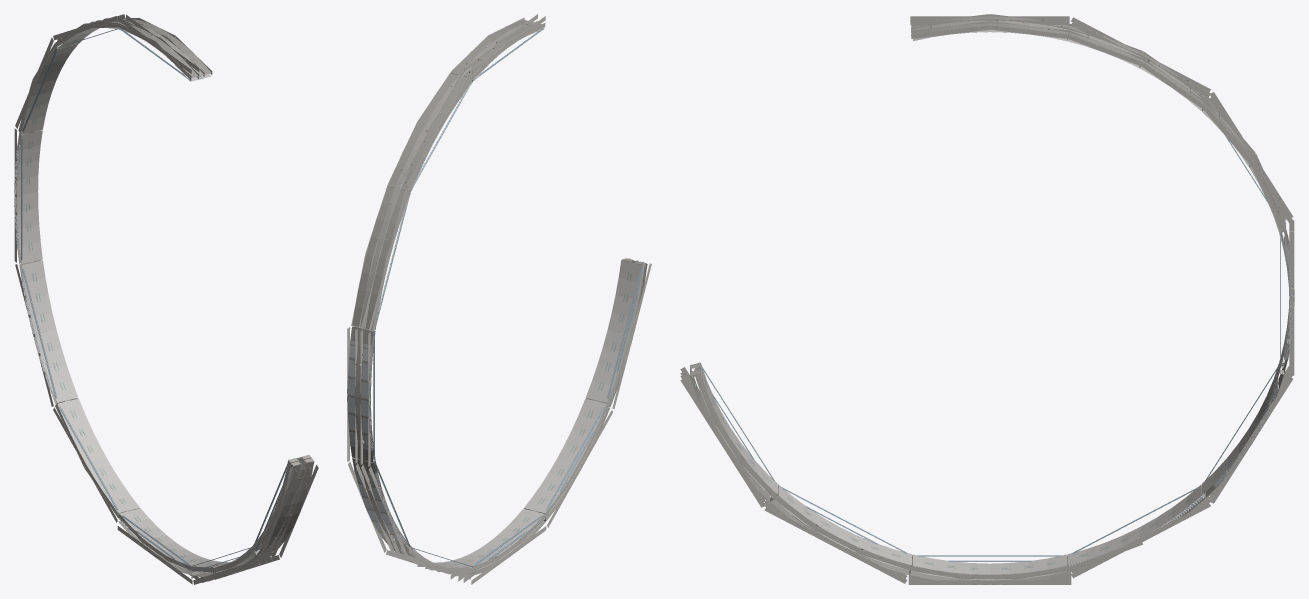
File: xuanshu_interior_C23.glb
The picture shows the model from 3 angles, left to right: view 1: azimuth 30°, elevation 25°; view 2: azimuth 150°, elevation 25°; view 3: azimuth 270°, elevation 25°; orthographic projection. The views are drawn at different scales.
Parts seen in each view (by area): view 1: UNIT-HIB-007, UNIT-FNR-002, UNIT-HYG-004, UNIT-MNT-006, UNIT-MNT-007, UNIT-TEX-001, UNIT-MKT-002; view 2: UNIT-MNT-006, UNIT-HYG-004, UNIT-HIB-007, UNIT-MKT-002, UNIT-FNR-002, UNIT-MNT-007, UNIT-TEX-001, UNIT-STO-003; view 3: UNIT-MNT-006, UNIT-HIB-007, UNIT-FNR-002, UNIT-MNT-007, UNIT-HYG-004, UNIT-MKT-002, UNIT-TEX-001.
Part boxes in pixels (x1,y1,x2,y2): UNIT-HIB-007: [14, 130, 139, 515]; UNIT-FNR-002: [117, 458, 318, 584]; UNIT-HYG-004: [19, 18, 211, 134]; UNIT-MNT-006: [118, 455, 311, 572]; UNIT-MNT-007: [18, 17, 212, 134]; UNIT-TEX-001: [15, 14, 199, 128]; UNIT-MKT-002: [14, 128, 139, 522]; UNIT-MNT-006: [453, 259, 645, 571]; UNIT-HYG-004: [352, 20, 544, 330]; UNIT-HIB-007: [347, 326, 472, 572]; UNIT-MKT-002: [347, 327, 472, 579]; UNIT-FNR-002: [450, 258, 651, 584]; UNIT-MNT-007: [351, 17, 545, 330]; UNIT-TEX-001: [361, 14, 545, 330]; UNIT-STO-003: [353, 331, 472, 572]; UNIT-MNT-006: [695, 362, 1068, 579]; UNIT-HIB-007: [1068, 227, 1294, 569]; UNIT-FNR-002: [680, 364, 1071, 584]; UNIT-MNT-007: [911, 14, 1286, 232]; UNIT-HYG-004: [911, 16, 1283, 232]; UNIT-MKT-002: [1067, 220, 1294, 578]; UNIT-TEX-001: [910, 16, 1293, 222].
Size of the model in its own units: 17.6 by 400 by 398.
